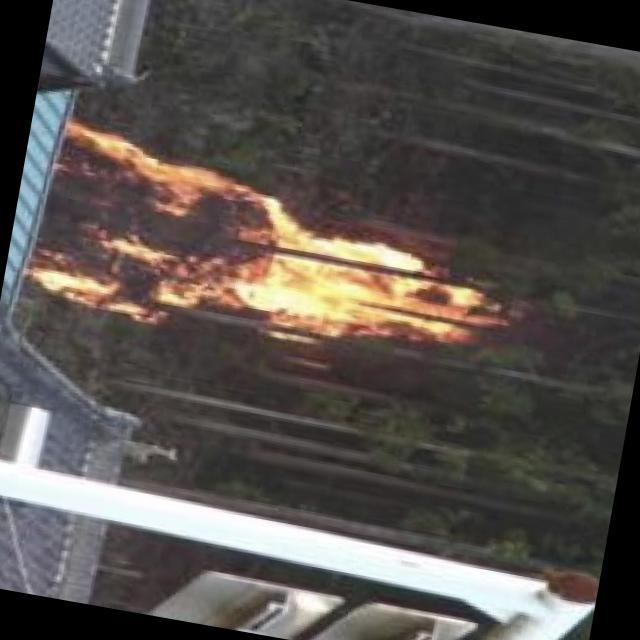Fire: (20, 120, 515, 377)
